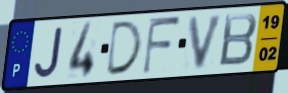4: (66, 20, 97, 80)
B: (217, 11, 259, 68)
D: (104, 19, 144, 78)
F: (140, 16, 182, 76)
J: (33, 25, 65, 79)
V: (187, 12, 226, 71)
